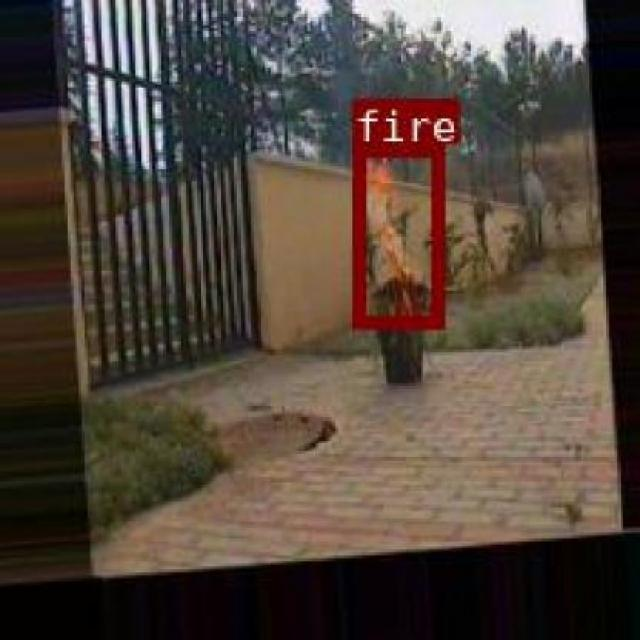Fire: (88, 181, 396, 234)
